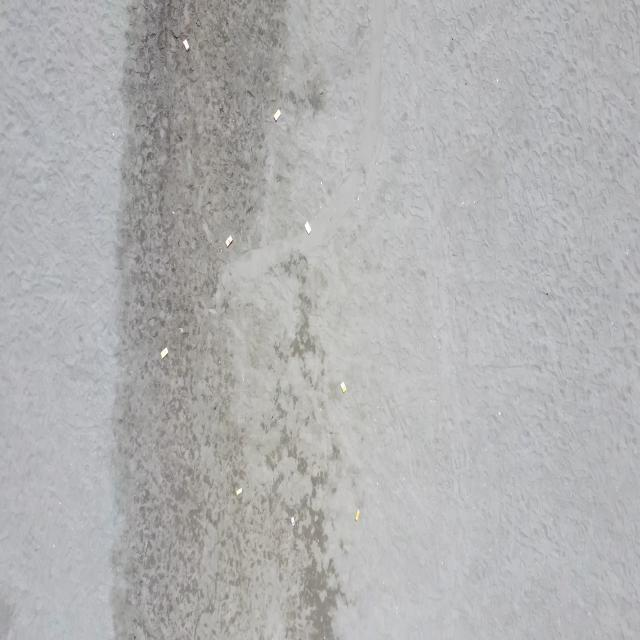Garbage: (272, 108, 280, 120), (224, 235, 232, 247), (181, 37, 188, 49), (353, 509, 360, 520), (304, 220, 310, 232), (160, 347, 167, 357), (340, 380, 345, 392), (289, 515, 295, 524), (236, 488, 241, 495), (179, 327, 183, 332), (171, 209, 174, 213)
